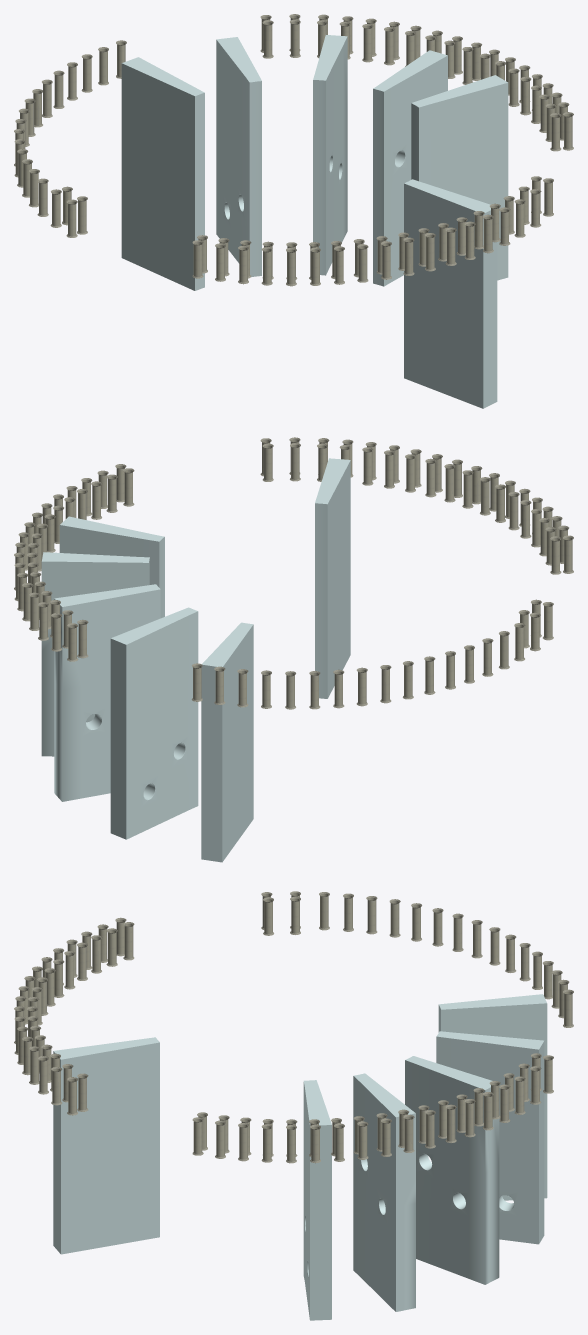
The model's file is prop_3F.fbx.
3 renders of one model, top to bottom at view 1: azimuth 30°, elevation 25°; view 2: azimuth 150°, elevation 25°; view 3: azimuth 270°, elevation 25°, orthographic.
Parts seen in each view (by area): view 1: pCylinder67; view 2: pCylinder67; view 3: pCylinder67.
Boxes of the visible parts, <box> form: pCylinder67: <box>14,14,573,408</box>; pCylinder67: <box>14,437,573,862</box>; pCylinder67: <box>14,891,573,1320</box>.
Bounding box in the file's own units: 9122 × 3622 × 9058.
1 material, 1 textured.
